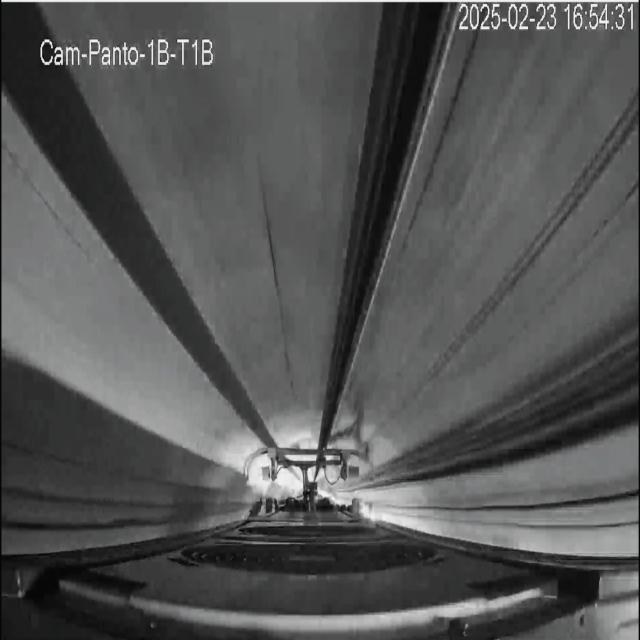Camera Stamp: (37, 29, 221, 70)
Date Stamp: (457, 3, 634, 33)
No - Spark: (226, 421, 374, 508)
